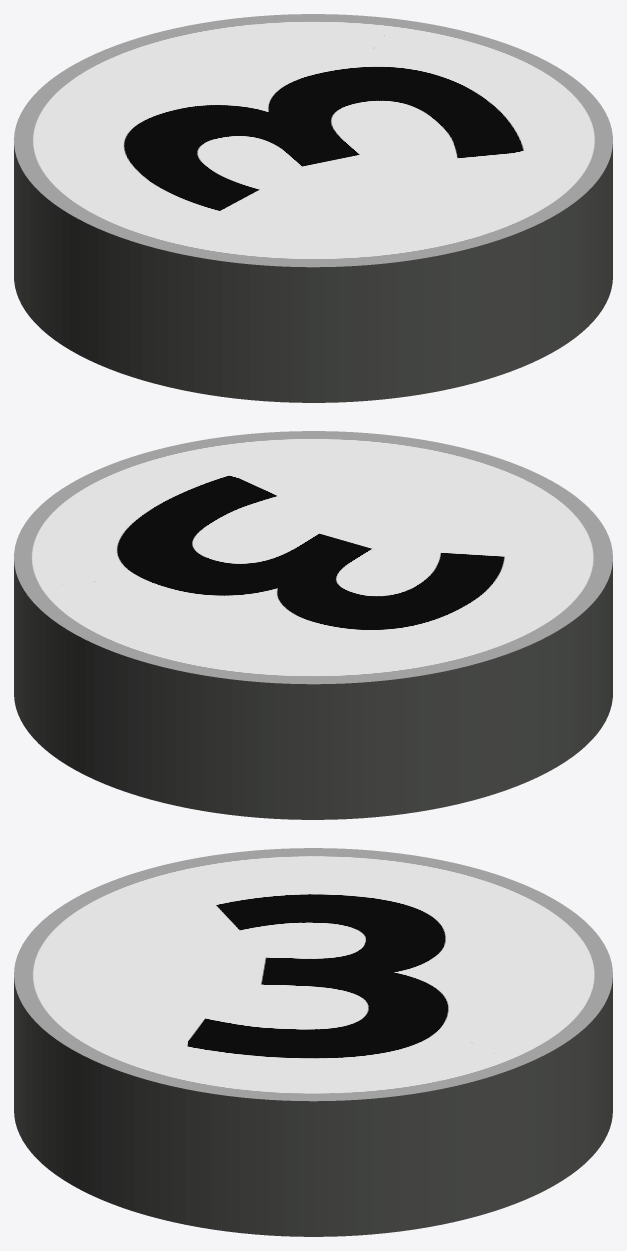
Rendered from stepper_3.dae.
The picture shows the model from 3 angles, top to bottom: view 1: azimuth 30°, elevation 25°; view 2: azimuth 150°, elevation 25°; view 3: azimuth 270°, elevation 25°; orthographic projection.
Visible parts, largest first — view 1: Cylinder; view 2: Cylinder; view 3: Cylinder.
Boxes of the visible parts, box(x1,y1,x2,y2) form: Cylinder: box(14, 14, 612, 402); Cylinder: box(14, 431, 612, 819); Cylinder: box(14, 848, 612, 1236).
Bounding box in the file's own units: 0.8 × 0.8 × 0.2.
1 material, 1 textured.
